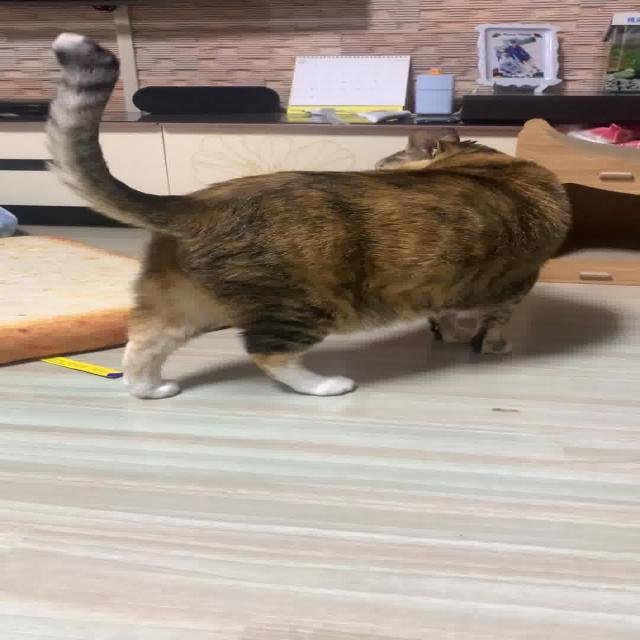cat: (30, 28, 574, 404)
